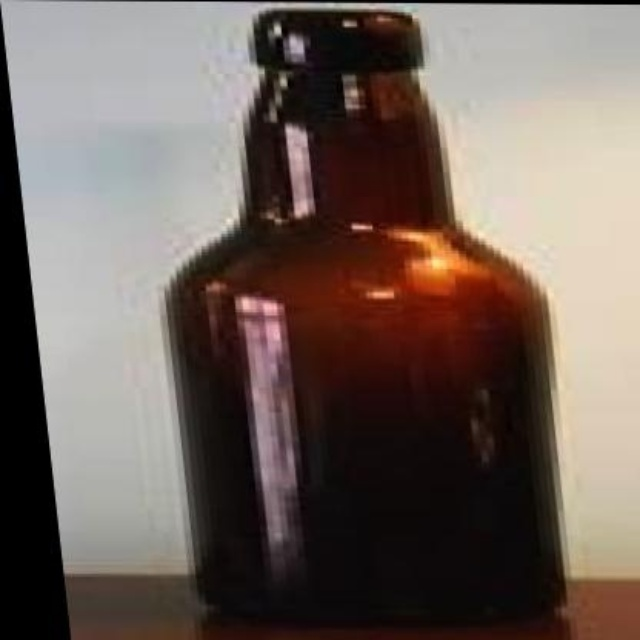trash: (166, 9, 563, 625)
